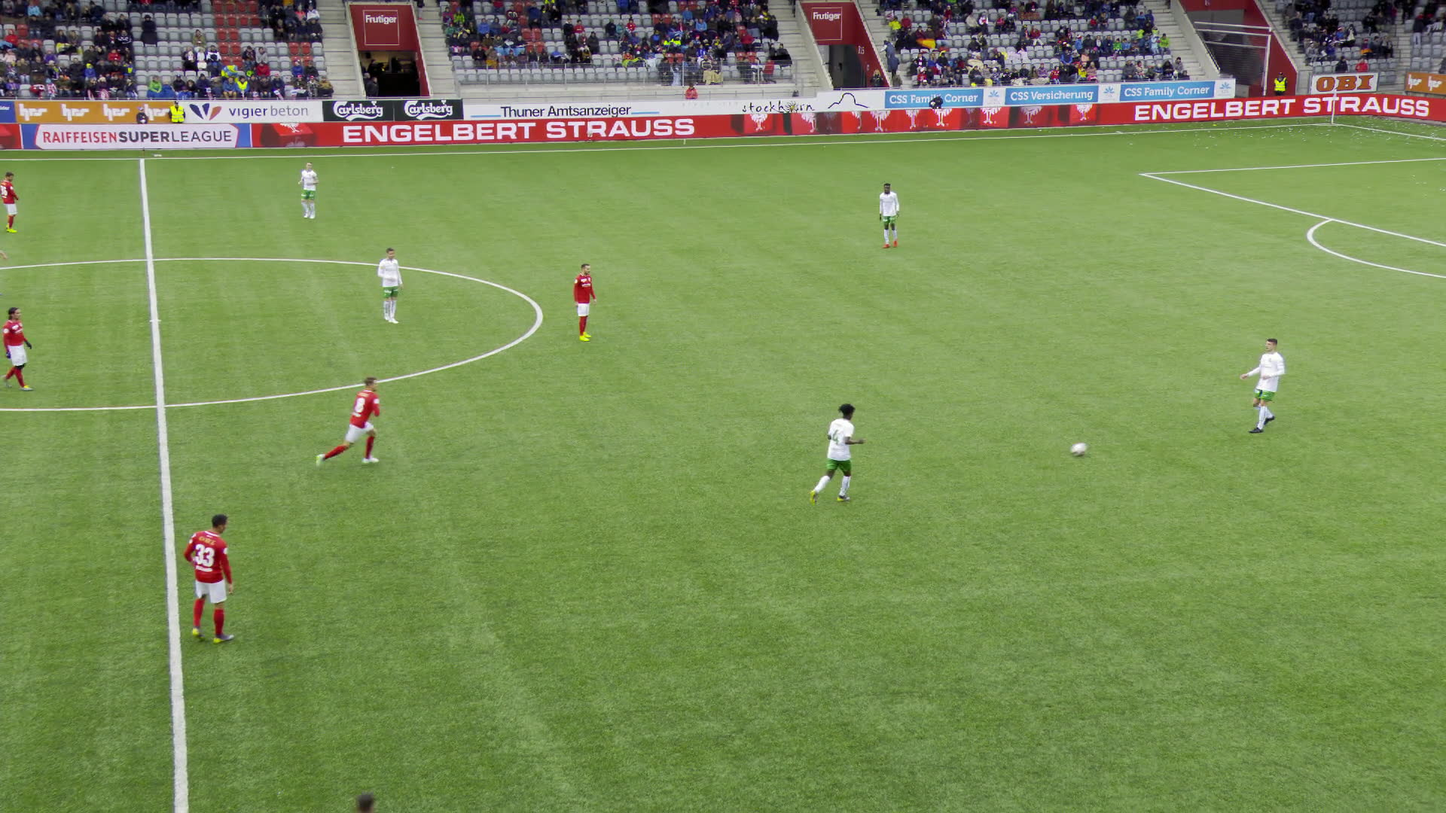ball: (1070, 440, 1089, 456)
player: (316, 376, 388, 467), (183, 508, 232, 641), (811, 402, 863, 510), (1237, 336, 1285, 436), (3, 303, 34, 390), (569, 262, 599, 340), (376, 246, 404, 324), (295, 160, 323, 218), (877, 183, 902, 247), (1, 169, 23, 230), (352, 789, 377, 812)
